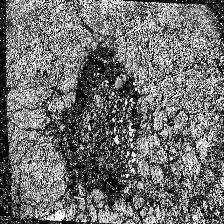pothole: (47, 36, 149, 204)
